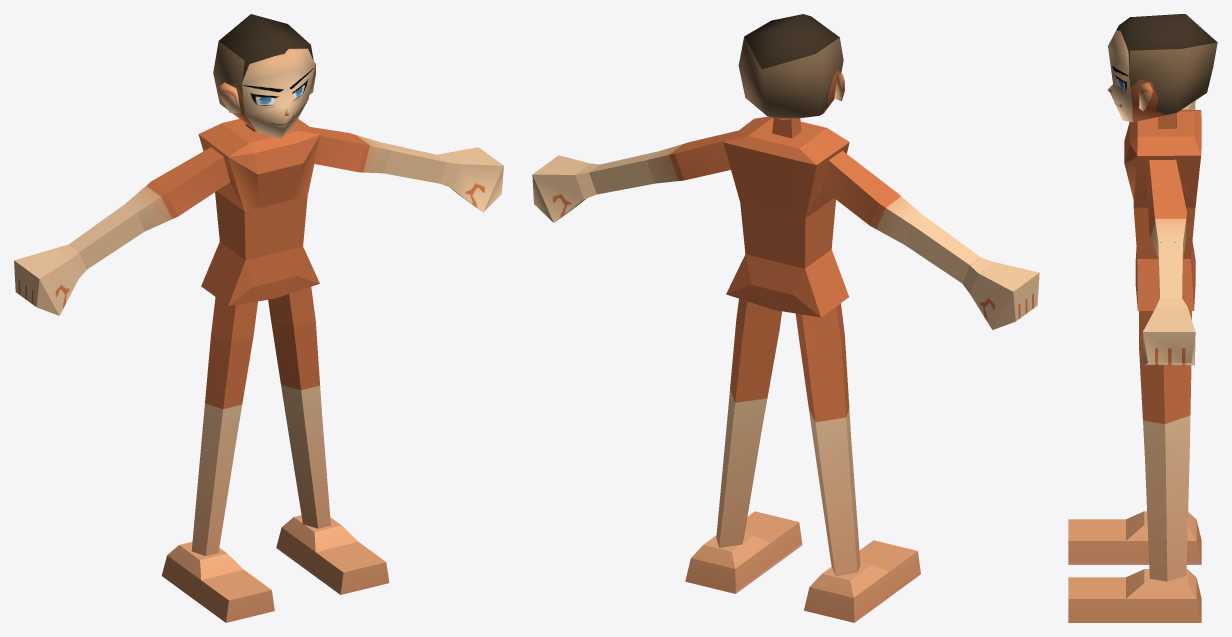
File: male base.fbx
The picture shows the model from 3 angles, left to right: view 1: azimuth 30°, elevation 25°; view 2: azimuth 150°, elevation 25°; view 3: azimuth 270°, elevation 25°; orthographic projection. The views are drawn at different scales.
Parts seen in each view (by area): view 1: Upper_Torso, Head, Upper_Right_Leg, Right_Foot, Upper_Left_Leg, Left_Foot, Upper_Right_Arm, Lower_Right_Leg, Lower_Left_Leg, Right_Hand, Left_Hand, Upper_Left_Arm (+5 smaller); view 2: Upper_Torso, Head, Upper_Right_Leg, Right_Foot, Left_Foot, Upper_Left_Leg, Upper_Right_Arm, Lower_Right_Leg, Right_Hand, Lower_Left_Leg, Left_Hand, Upper_Left_Arm (+5 smaller); view 3: Head, Left_Foot, Upper_Torso, Lower_Left_Leg, Upper_Left_Leg, Right_Foot, Left_Hand, Upper_Left_Arm, Lower_Torso.002, Lower_Left_Arm, Neck.
Boxes of the visible parts, x1=… form: Upper_Torso: x1=198, y1=119, x2=320, y2=260; Head: x1=213, y1=14, x2=315, y2=138; Upper_Right_Leg: x1=202, y1=297, x2=257, y2=440; Right_Foot: x1=161, y1=541, x2=274, y2=622; Upper_Left_Leg: x1=268, y1=287, x2=321, y2=419; Left_Foot: x1=276, y1=515, x2=389, y2=594; Upper_Right_Arm: x1=124, y1=147, x2=230, y2=231; Lower_Right_Leg: x1=191, y1=435, x2=236, y2=555; Lower_Left_Leg: x1=285, y1=415, x2=330, y2=528; Right_Hand: x1=14, y1=244, x2=86, y2=315; Left_Hand: x1=437, y1=147, x2=503, y2=212; Upper_Left_Arm: x1=310, y1=127, x2=391, y2=173; Upper_Torso: x1=723, y1=116, x2=849, y2=268; Head: x1=738, y1=14, x2=844, y2=120; Upper_Right_Leg: x1=795, y1=303, x2=851, y2=455; Right_Foot: x1=804, y1=540, x2=920, y2=622; Left_Foot: x1=685, y1=511, x2=802, y2=593; Upper_Left_Leg: x1=727, y1=298, x2=781, y2=433; Upper_Right_Arm: x1=820, y1=151, x2=922, y2=243; Lower_Right_Leg: x1=813, y1=442, x2=860, y2=576; Right_Hand: x1=962, y1=257, x2=1039, y2=329; Lower_Left_Leg: x1=716, y1=422, x2=761, y2=547; Left_Hand: x1=532, y1=155, x2=599, y2=222; Upper_Left_Arm: x1=646, y1=130, x2=737, y2=183; Head: x1=1107, y1=14, x2=1217, y2=122; Left_Foot: x1=1068, y1=569, x2=1201, y2=622; Upper_Torso: x1=1124, y1=109, x2=1201, y2=258; Lower_Left_Leg: x1=1144, y1=450, x2=1189, y2=581; Upper_Left_Leg: x1=1139, y1=311, x2=1191, y2=457; Right_Foot: x1=1068, y1=511, x2=1201, y2=564; Left_Hand: x1=1143, y1=298, x2=1195, y2=365; Upper_Left_Arm: x1=1147, y1=159, x2=1187, y2=258; Lower_Torso.002: x1=1135, y1=259, x2=1195, y2=310; Lower_Left_Arm: x1=1158, y1=242, x2=1182, y2=298; Neck: x1=1158, y1=113, x2=1176, y2=128.
Size of the model in its own units: 156 by 176 by 41.97.
